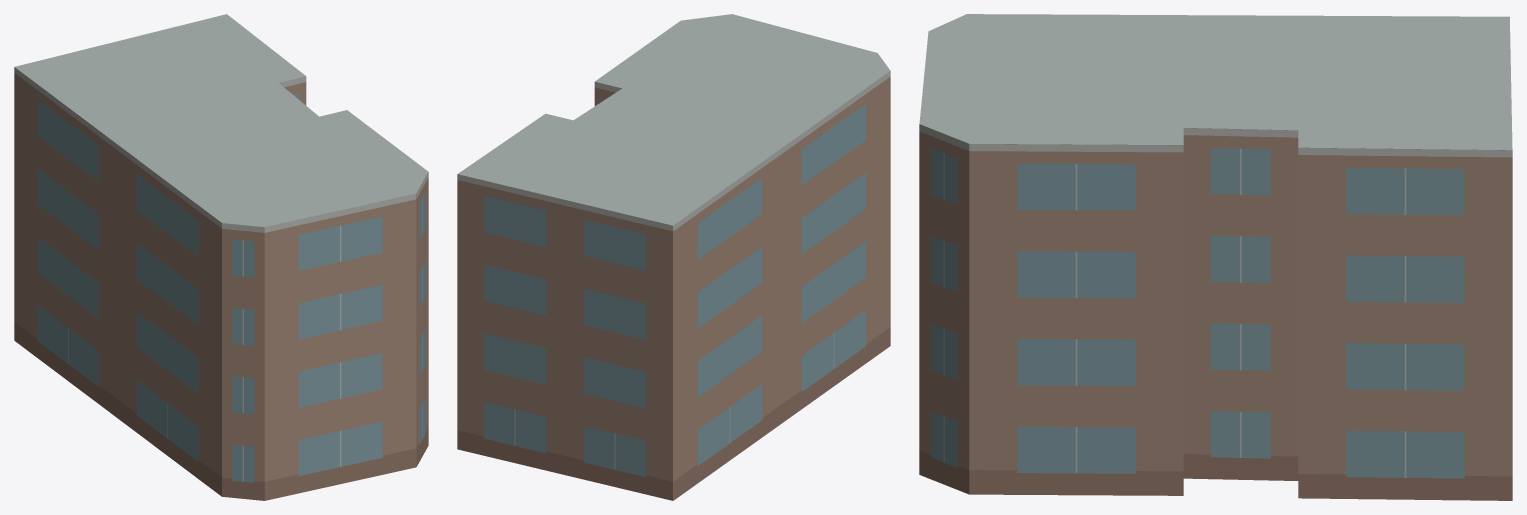
File: survey-upis-32577606.glb
The picture shows the model from 3 angles, left to right: view 1: azimuth 30°, elevation 25°; view 2: azimuth 150°, elevation 25°; view 3: azimuth 270°, elevation 25°; orthographic projection. The views are drawn at different scales.
Parts seen in each view (by area): view 1: survey-upis-32577606.tmp; view 2: survey-upis-32577606.tmp; view 3: survey-upis-32577606.tmp.
Boxes of the visible parts, x1,y1,x2,y2 form: survey-upis-32577606.tmp: (14,14,428,500); survey-upis-32577606.tmp: (457,14,890,500); survey-upis-32577606.tmp: (919,14,1512,500).
Size of the model in its own units: 9.75 by 11.7 by 17.95.
